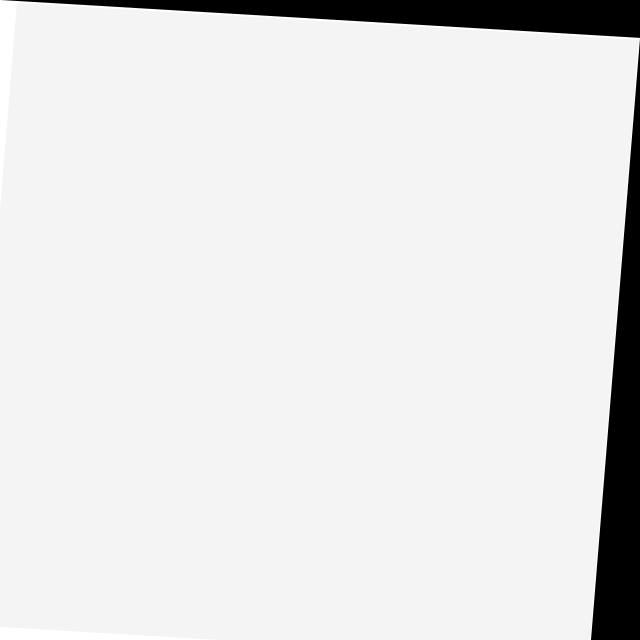qr_code: (0, 3, 639, 640)
